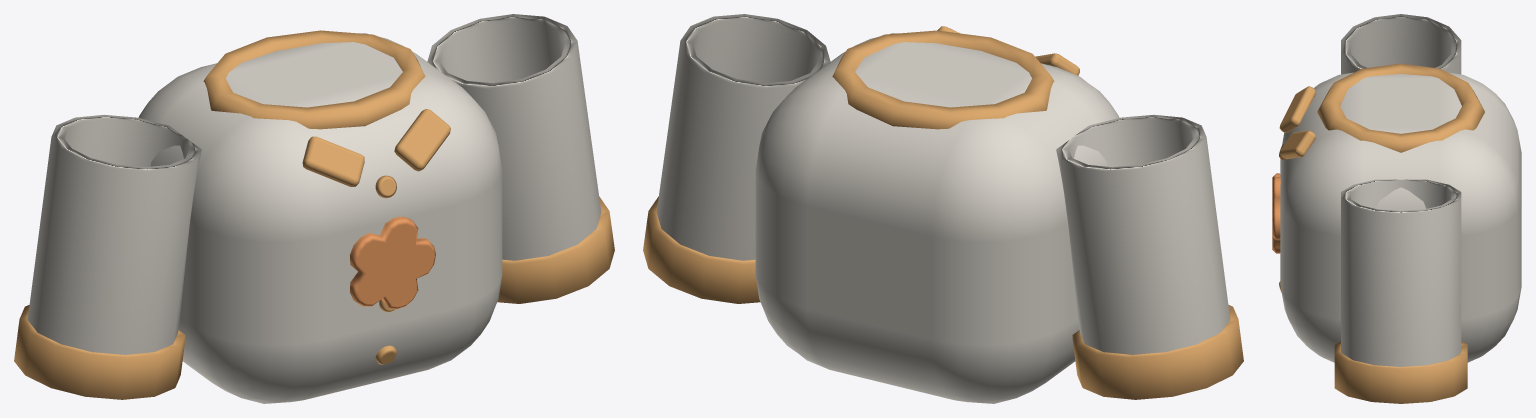
The model's file is paradise_planning_shirt.glb.
3 views of the same model, side by side, from view 1: azimuth 30°, elevation 25°; view 2: azimuth 150°, elevation 25°; view 3: azimuth 270°, elevation 25° (orthographic). The views are drawn at different scales.
Visible parts, largest first — view 1: paradise_planning_shirt_Body, paradise_planning_shirt_ArmL, paradise_planning_shirt_ArmR; view 2: paradise_planning_shirt_Body, paradise_planning_shirt_ArmL, paradise_planning_shirt_ArmR; view 3: paradise_planning_shirt_Body, paradise_planning_shirt_ArmR, paradise_planning_shirt_ArmL.
Boxes of the visible parts, x1,y1,x2,y2 form: paradise_planning_shirt_Body: (138,30,502,403); paradise_planning_shirt_ArmL: (14,114,201,399); paradise_planning_shirt_ArmR: (427,14,614,303); paradise_planning_shirt_Body: (755,26,1119,403); paradise_planning_shirt_ArmL: (1056,114,1243,399); paradise_planning_shirt_ArmR: (643,14,830,303); paradise_planning_shirt_Body: (1272,63,1521,362); paradise_planning_shirt_ArmR: (1334,179,1467,403); paradise_planning_shirt_ArmL: (1341,14,1461,74).
Size of the model in its own units: 0.6504 by 0.3119 by 0.3.
